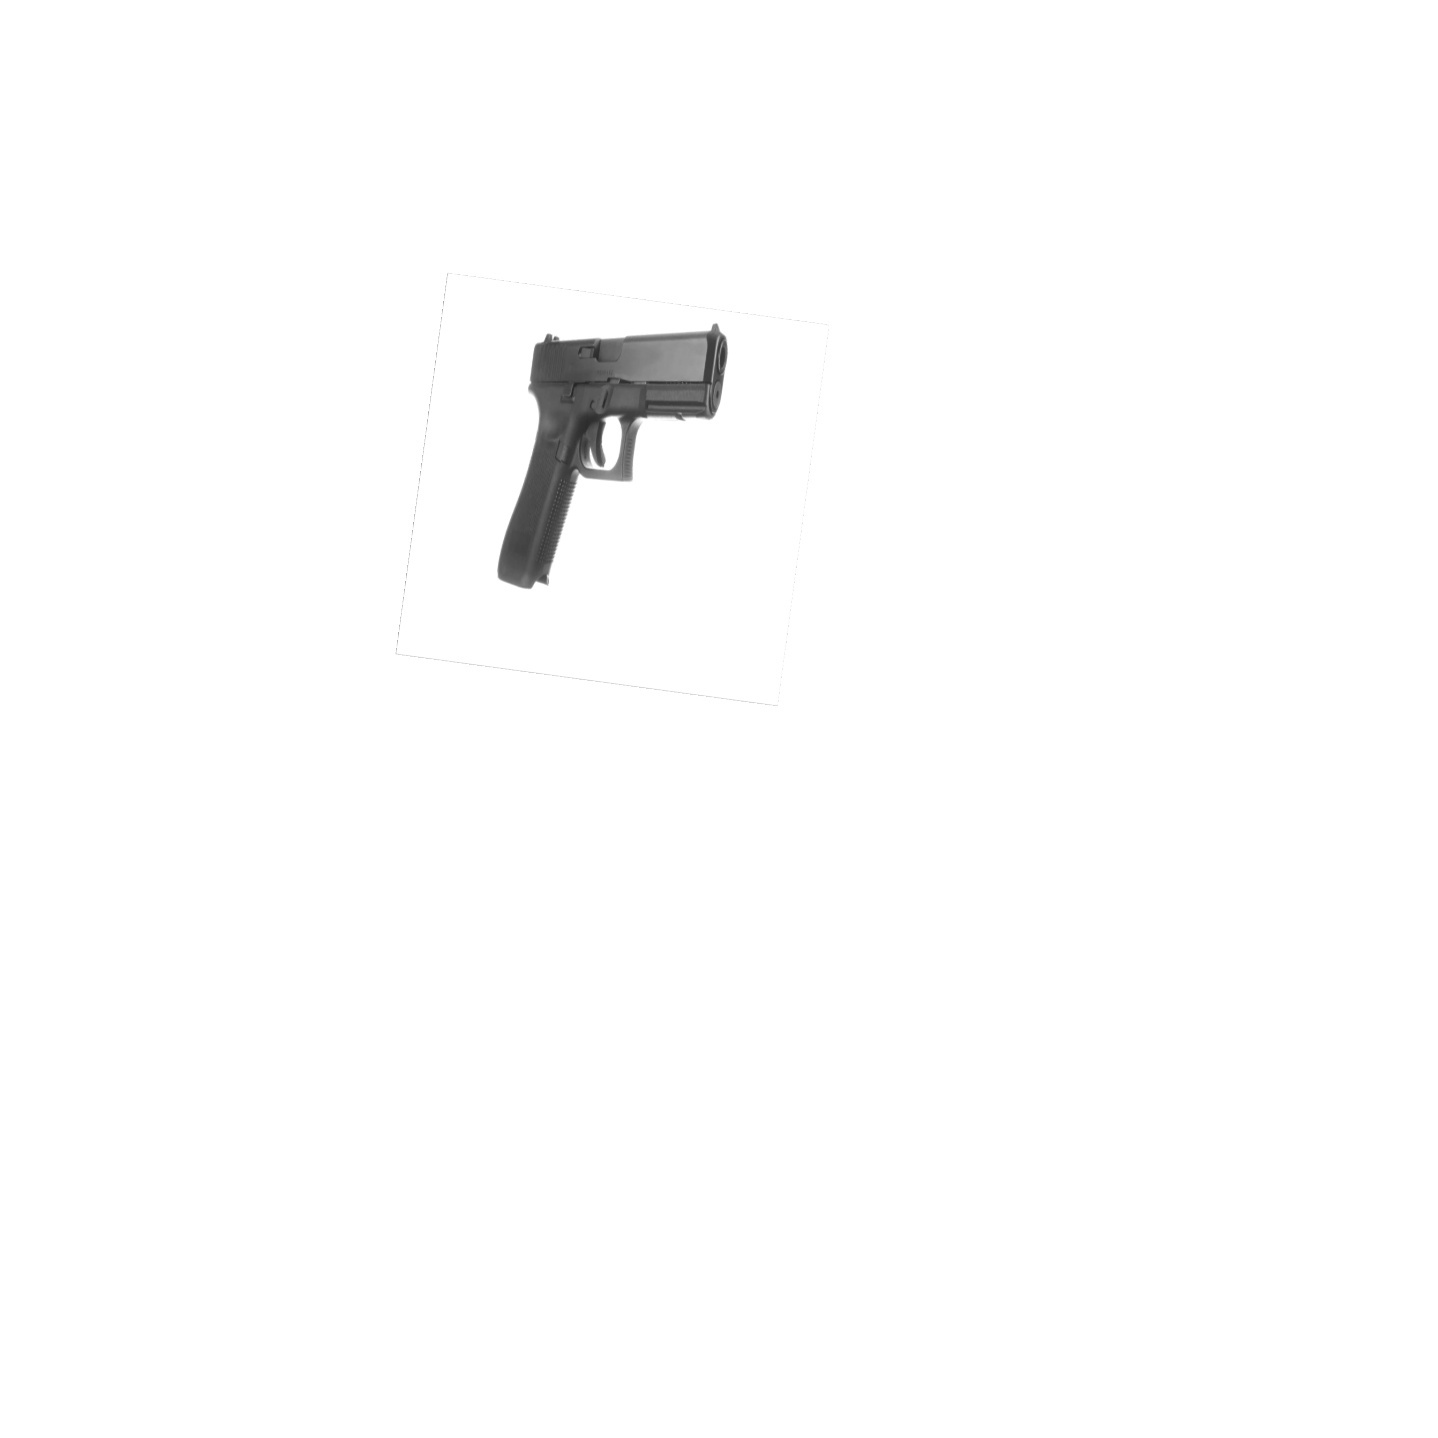gun: (496, 325, 730, 590)
